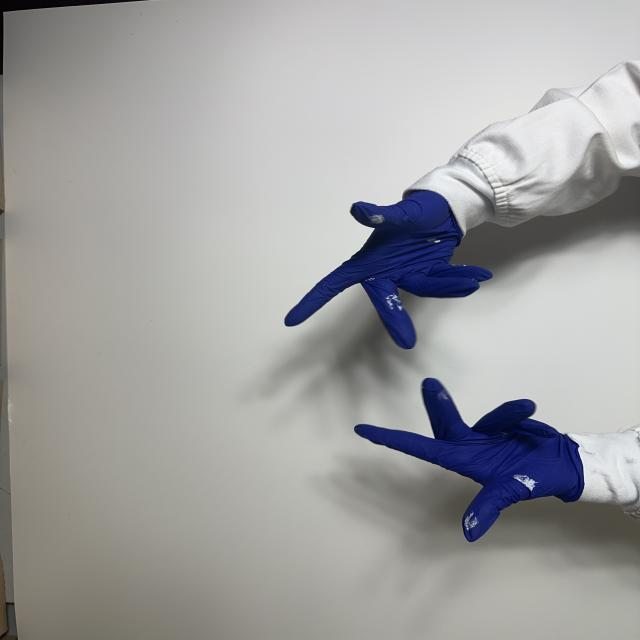gloves_contaminated: (355, 378, 584, 542), (285, 192, 492, 349)
